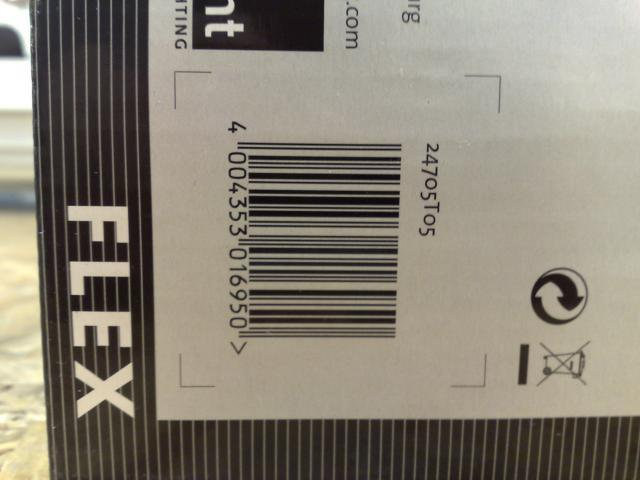Barcode: (212, 118, 415, 362)
